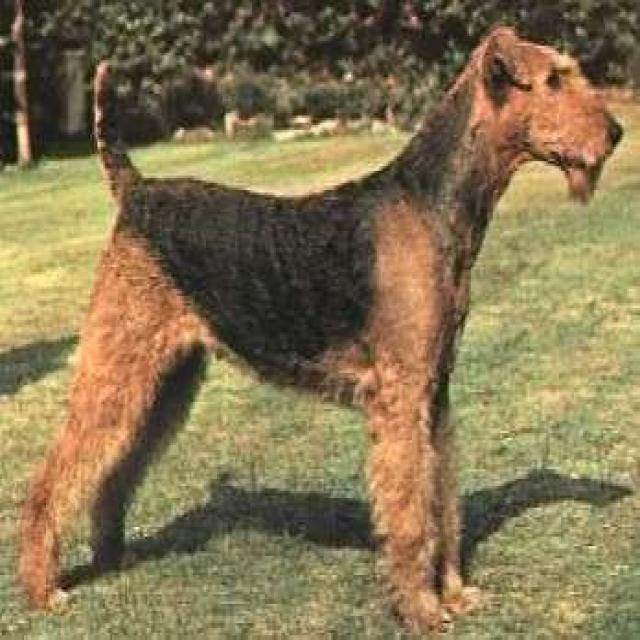airedale: (15, 17, 625, 638)
